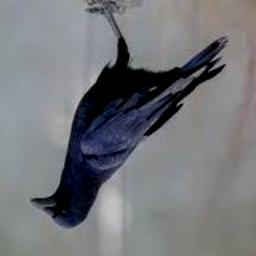Crow: (31, 0, 229, 229)
